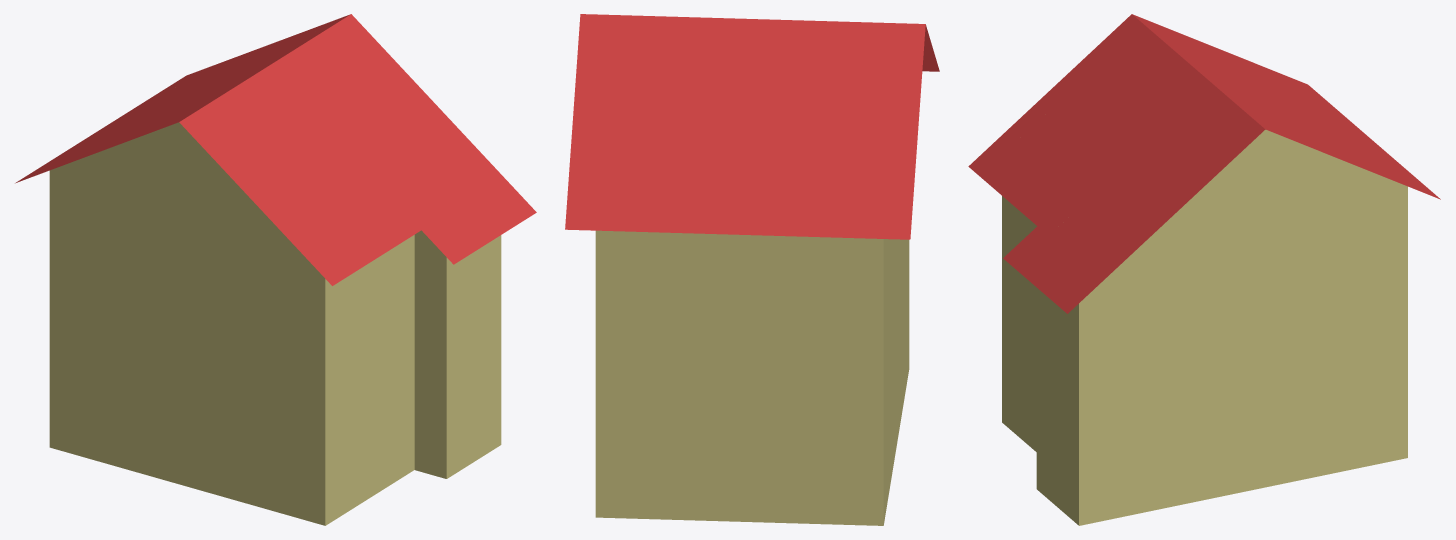
The picture shows the model from 3 angles, left to right: view 1: azimuth 30°, elevation 25°; view 2: azimuth 150°, elevation 25°; view 3: azimuth 270°, elevation 25°; orthographic projection. The views are drawn at different scales.
Parts seen in each view (by area): view 1: group_5, group_3, group_4; view 2: group_5, group_3, group_4; view 3: group_5, group_3, group_4.
Part boxes in pixels (x1,y1,x2,y2): group_5: (49, 122, 501, 525); group_3: (15, 14, 536, 278); group_4: (149, 14, 441, 285); group_5: (595, 230, 909, 525); group_3: (565, 15, 939, 239); group_4: (565, 14, 925, 230); group_5: (1002, 129, 1407, 525); group_3: (1002, 14, 1439, 313); group_4: (968, 14, 1440, 241).
Size of the model in its own units: 13.56 by 14.06 by 12.12.
